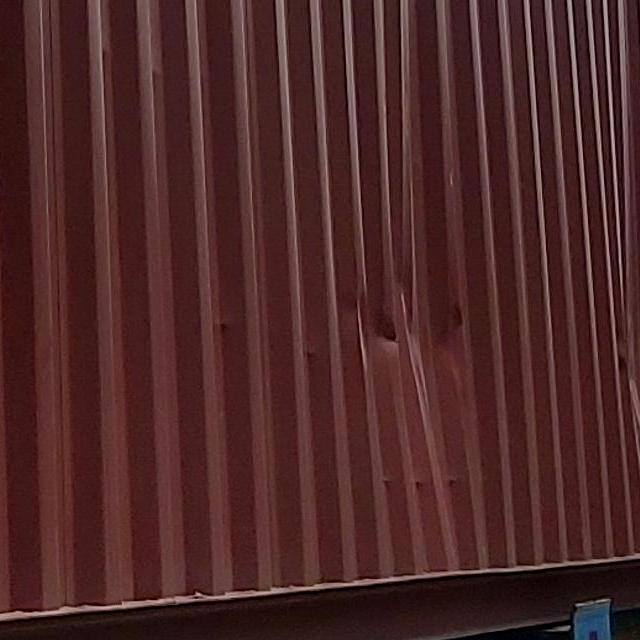Dent: (364, 168, 480, 487)
